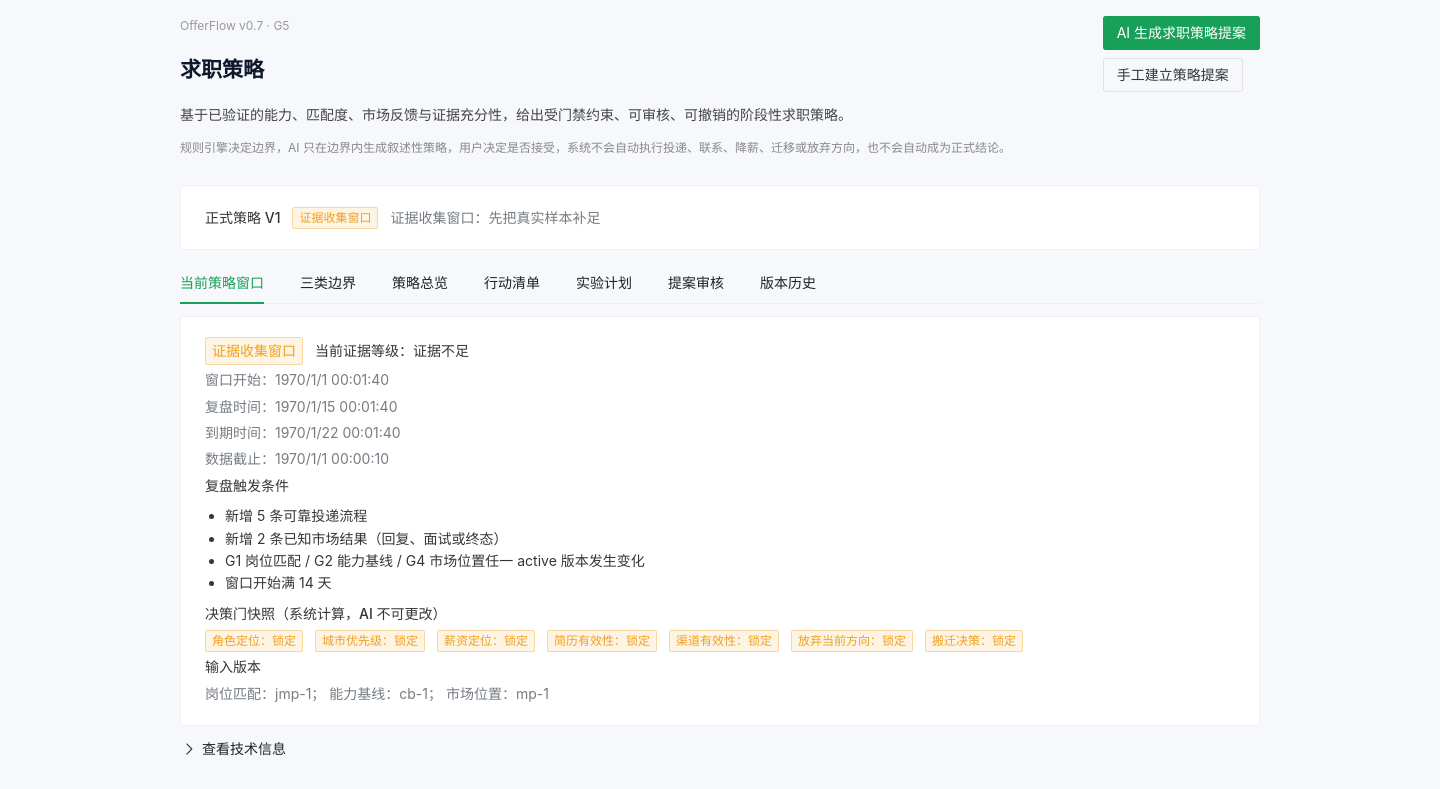
StrategyWindowPage › 展示策略总览、行动清单与版本历史
Click the element with class "n-tabs-tab" showing "策略总览" at (420,283), box [392,274,448,291]
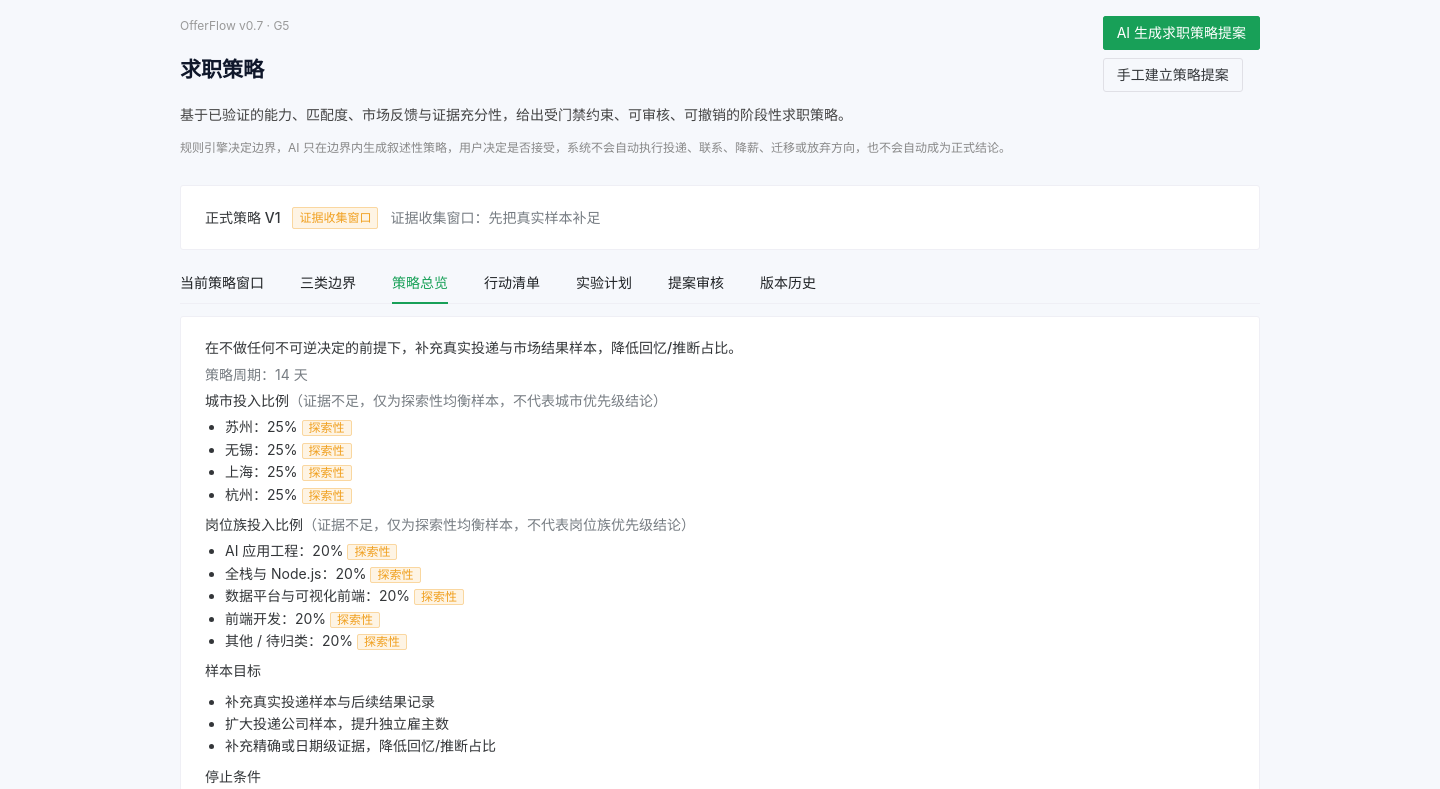
Click the element with class "n-tabs-tab" showing "行动清单" at (512,283), box [484,274,540,291]
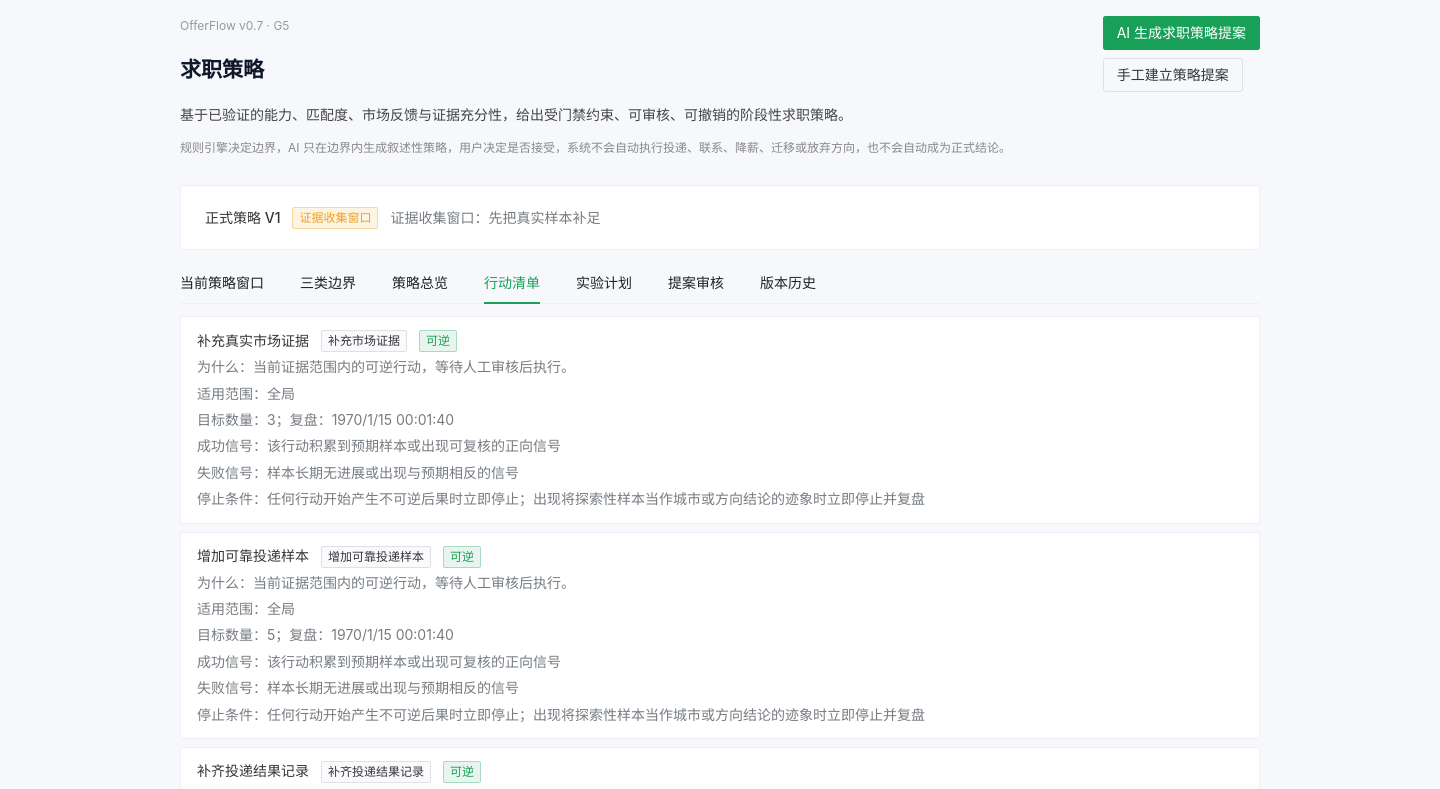
Click the element with class "n-tabs-tab" showing "版本历史" at (788,283), box [760,274,816,291]
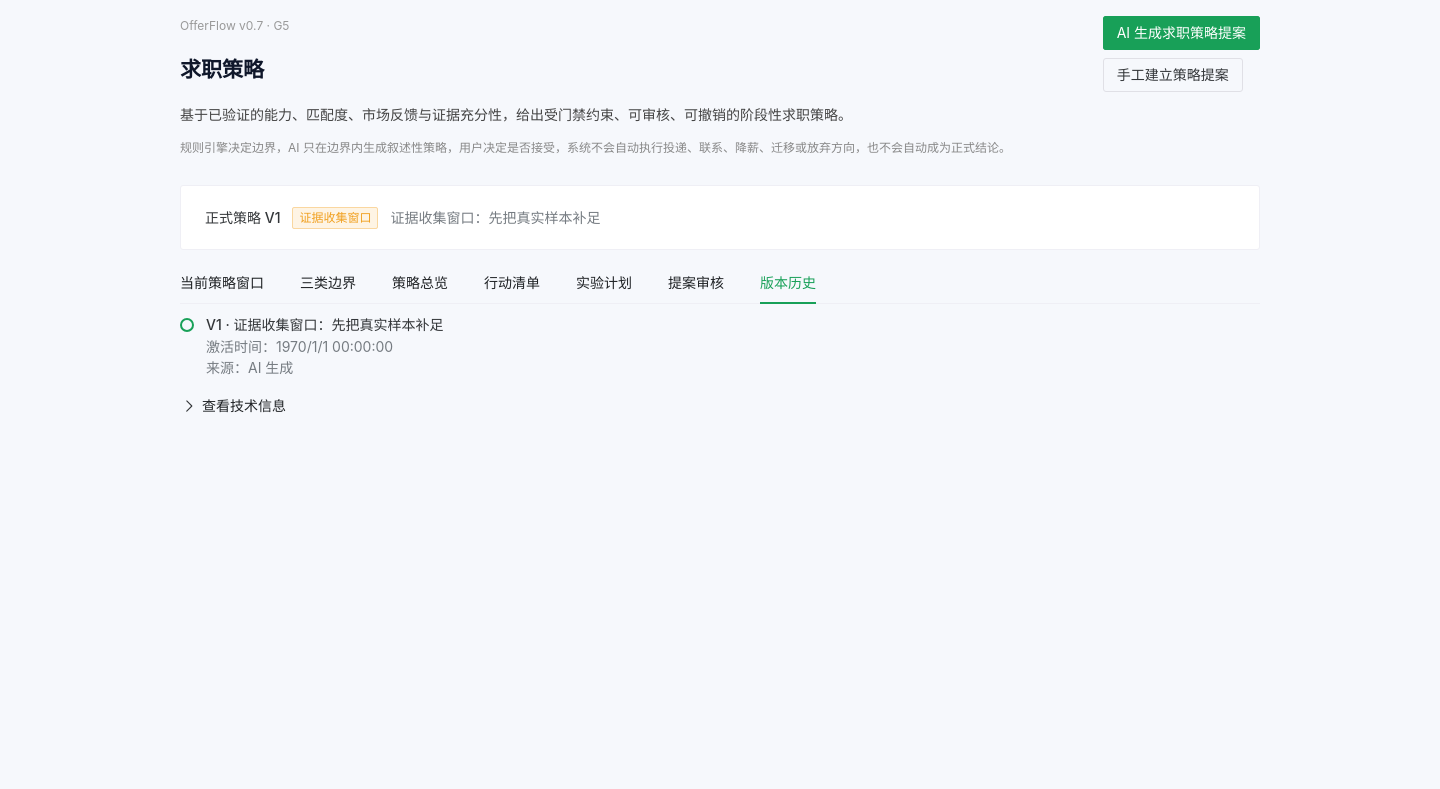
Now the element with test id "sw-version-v-1" is shown, box [180,316,444,376]
